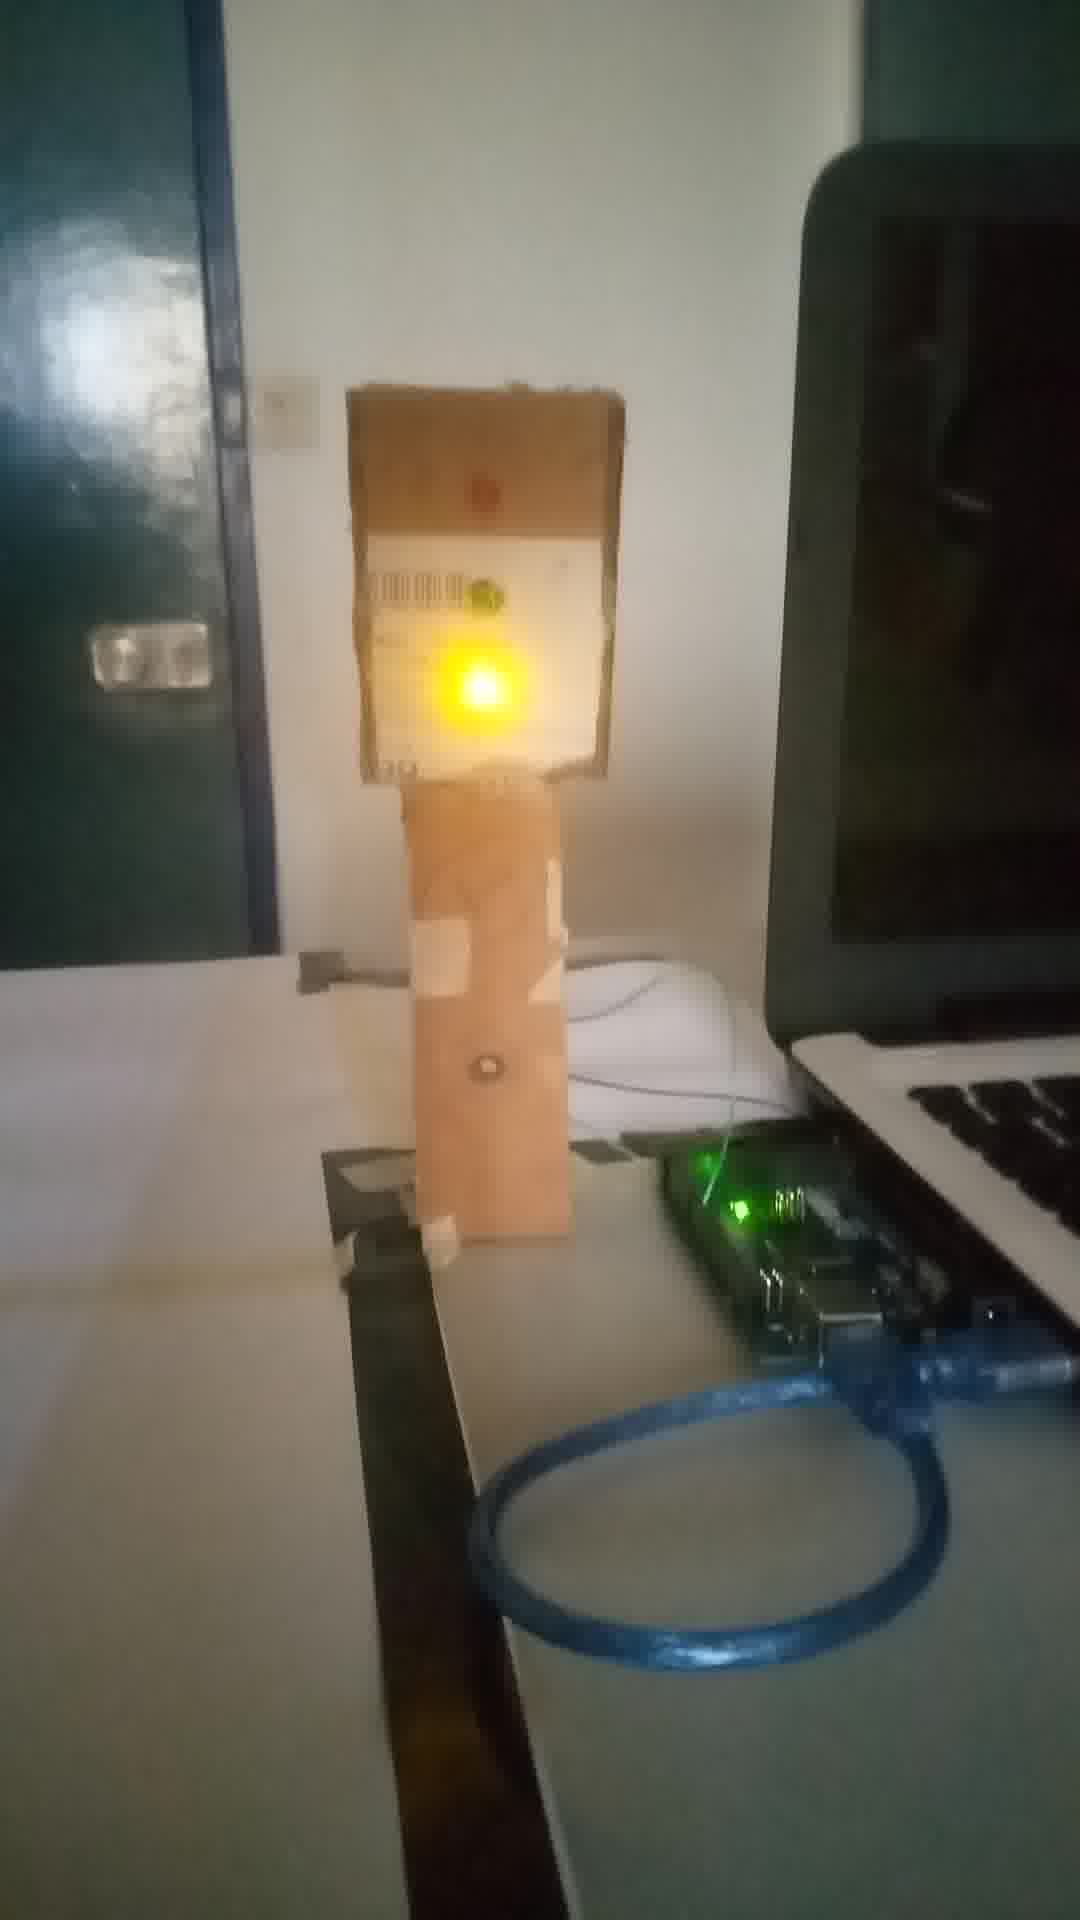green: (357, 371, 618, 786)
